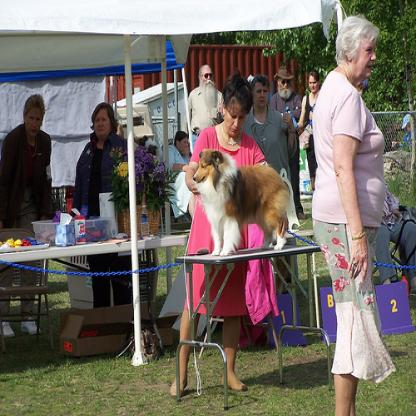Shetland_sheepdog: (192, 146, 293, 258)
